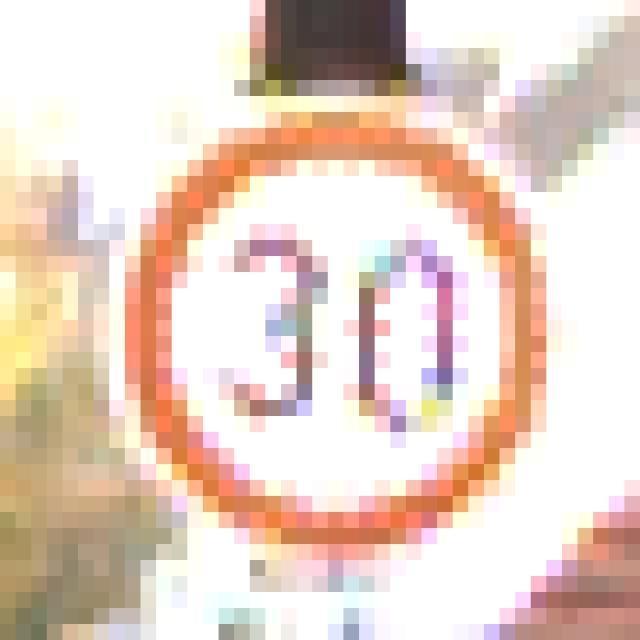Speed Limit -30-: (86, 72, 538, 536)
